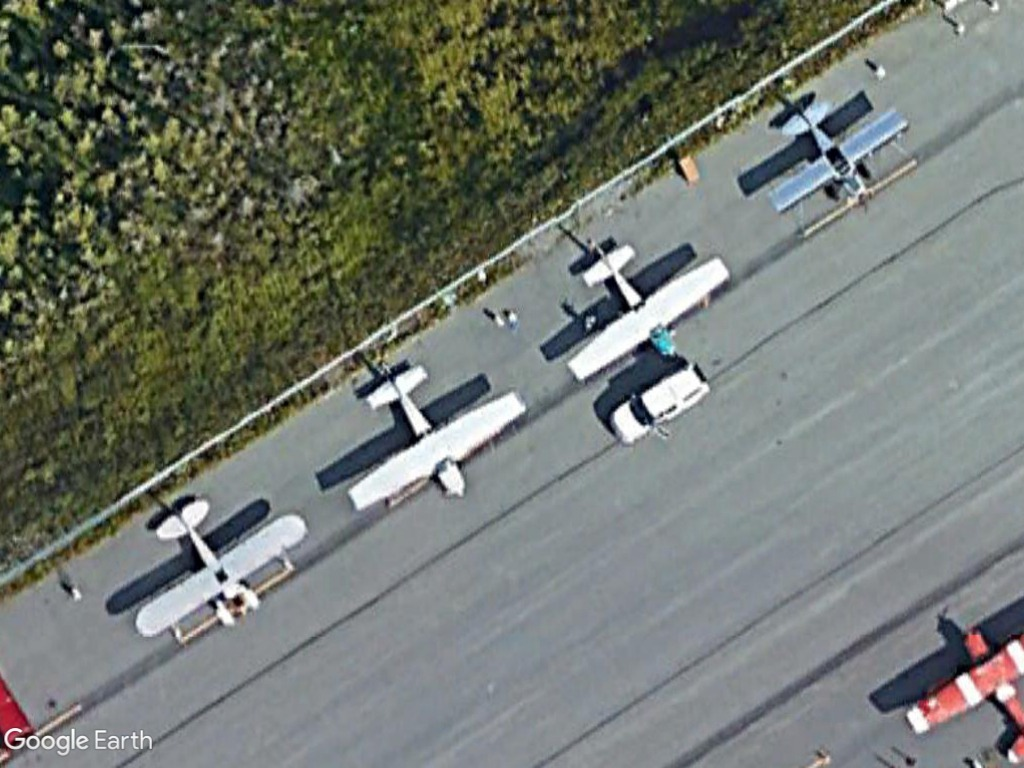car: (601, 354, 717, 451)
trainer: (339, 359, 524, 523), (135, 495, 308, 647), (561, 238, 732, 383), (766, 97, 912, 217)
